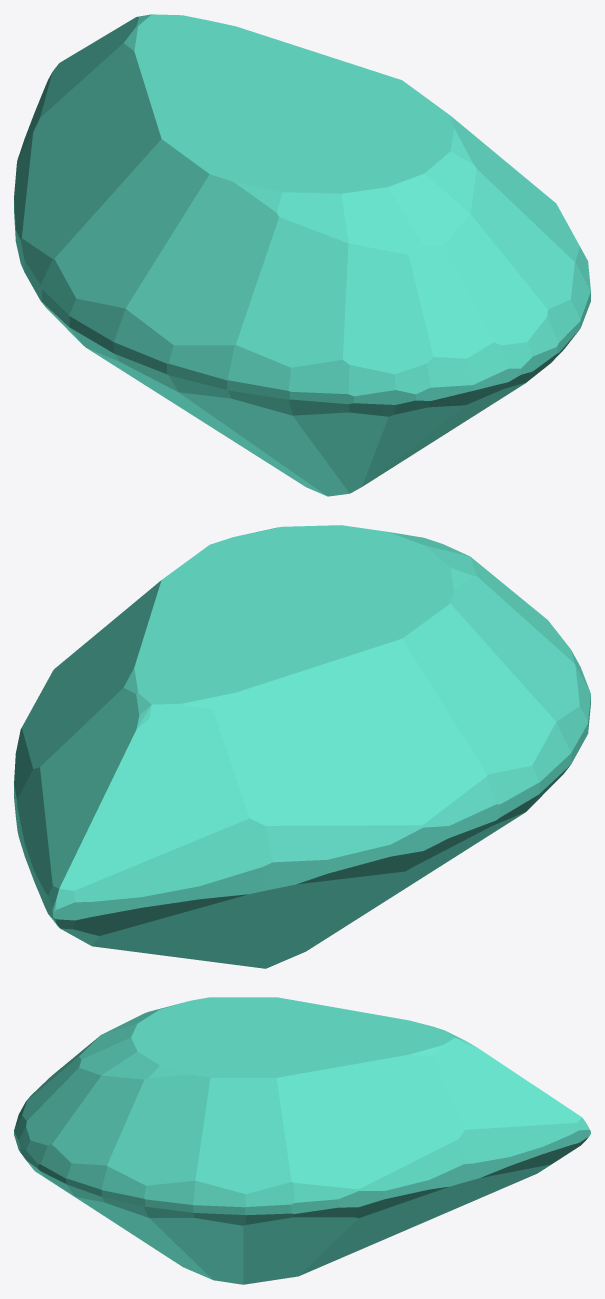
File: pear.glb
3 renders of one model, top to bottom at view 1: azimuth 30°, elevation 25°; view 2: azimuth 150°, elevation 25°; view 3: azimuth 270°, elevation 25°, orthographic. The views are drawn at different scales.
Parts seen in each view (by area): view 1: Prism_pear; view 2: Prism_pear; view 3: Prism_pear.
Boxes of the visible parts, <box> form: Prism_pear: <box>14,14,590,496</box>; Prism_pear: <box>14,525,590,968</box>; Prism_pear: <box>14,997,590,1284</box>.
Size of the model in its own units: 1.5 by 1.1 by 2.32.
